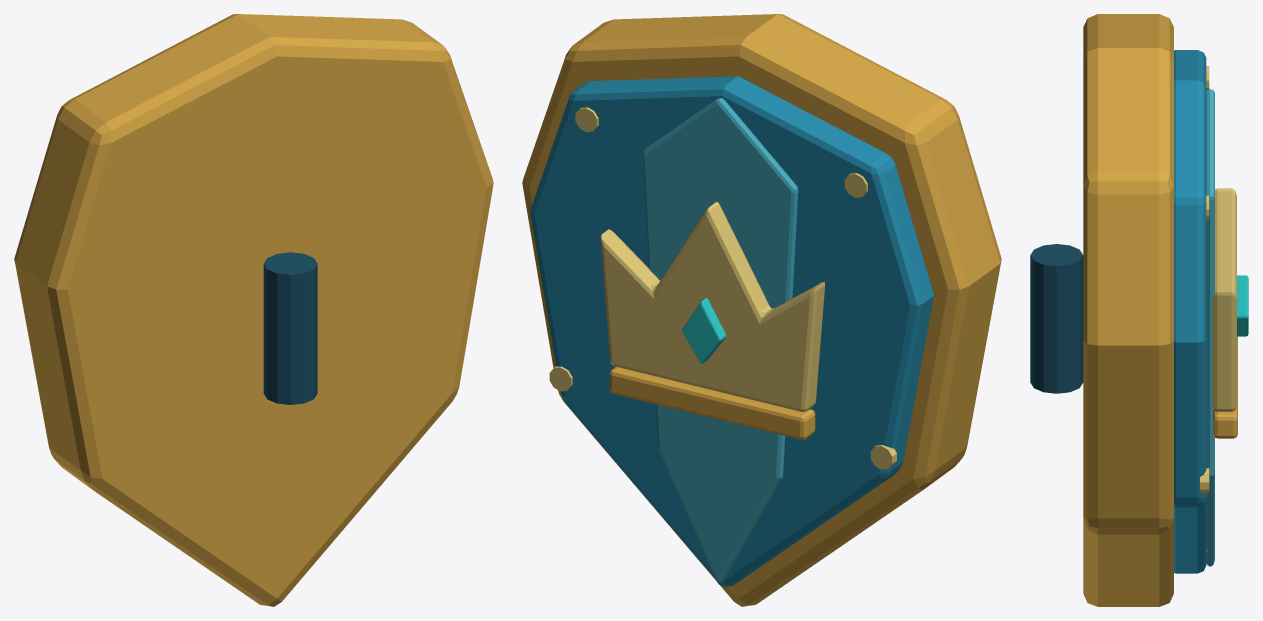
The model's file is royal_shield_v1.glb.
3 renders of one model, left to right at view 1: azimuth 30°, elevation 25°; view 2: azimuth 150°, elevation 25°; view 3: azimuth 270°, elevation 25°, orthographic.
Visible parts, largest first — view 1: RoyalArmory_Shield; view 2: RoyalArmory_Shield; view 3: RoyalArmory_Shield.
Boxes of the visible parts, bbox=[...] form: RoyalArmory_Shield: bbox=[14, 14, 493, 606]; RoyalArmory_Shield: bbox=[522, 14, 1001, 606]; RoyalArmory_Shield: bbox=[1030, 14, 1248, 606].
Size of the model in its own units: 0.86 by 1.05 by 0.372.
